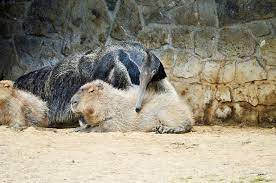capivara: (71, 77, 195, 137), (1, 80, 49, 137)
